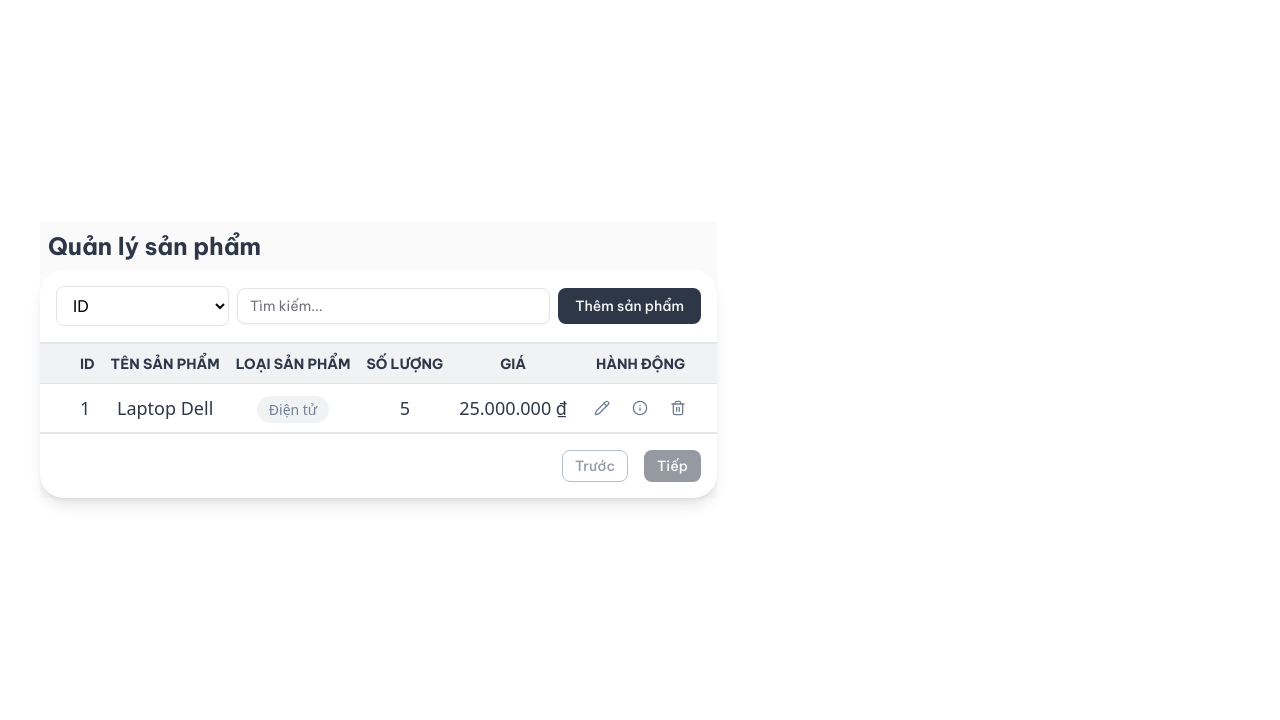
Test case: Product Page Integration › b) - Product form create & edit › TC_PRODUCT_004: Cập nhật sản phẩm thành công qua form chỉnh sửa
Expected: the text "Laptop Dell" is shown, [103, 384, 228, 432]
Click the 2nd button at (602, 408), box [583, 392, 621, 424]
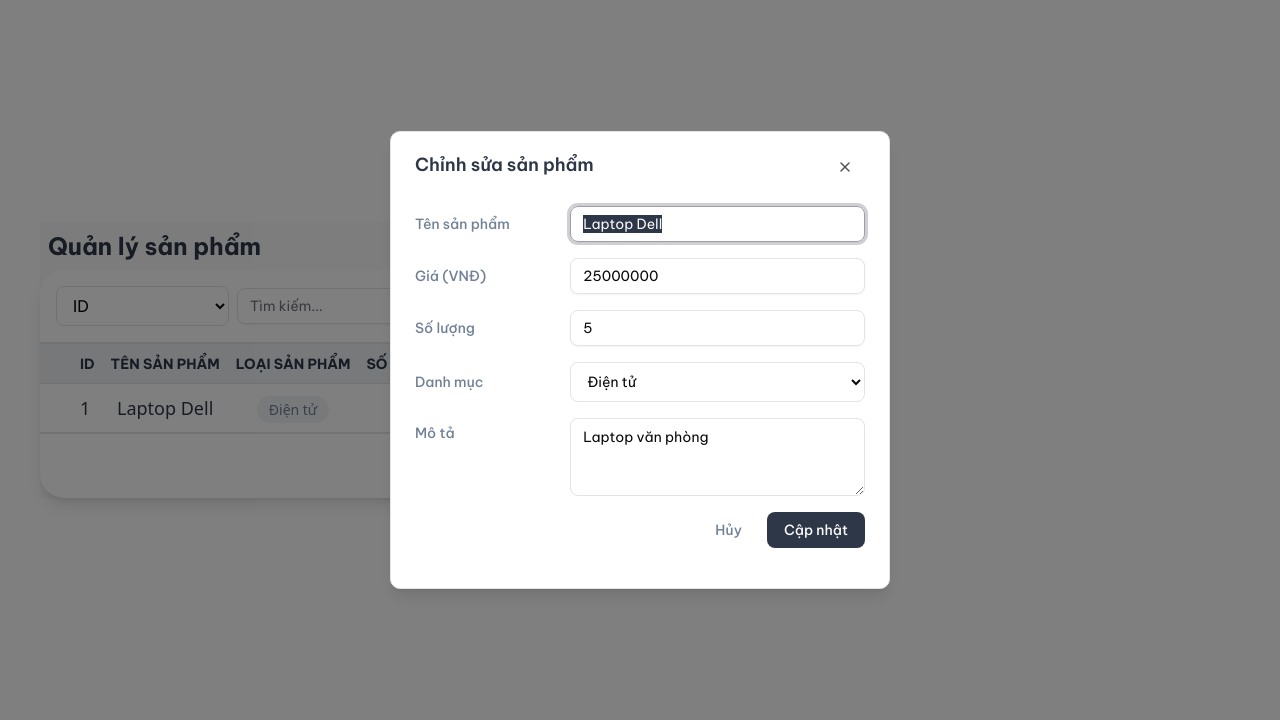
Replace the text in the number field labelled "Giá (VNĐ)" with "22900000" at (718, 276), box [570, 258, 865, 294]
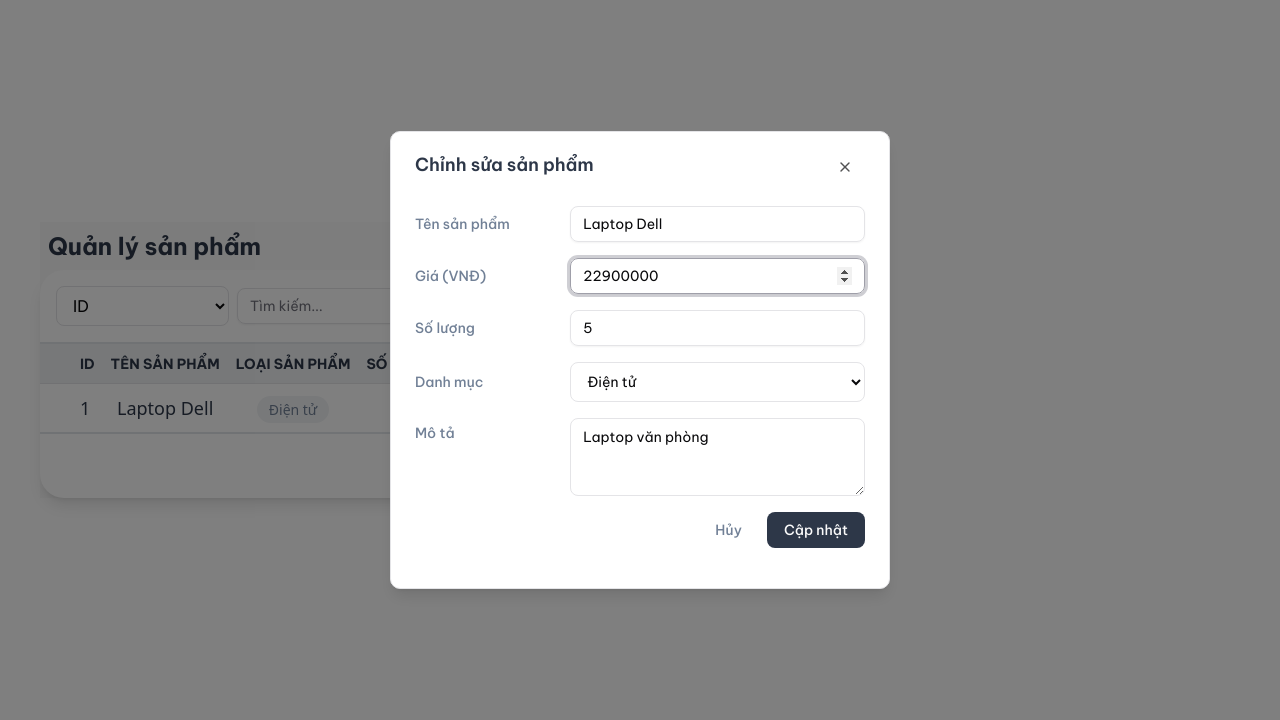
Replace the text in the number field labelled "Số lượng" with "8" at (718, 328), box [570, 310, 865, 346]
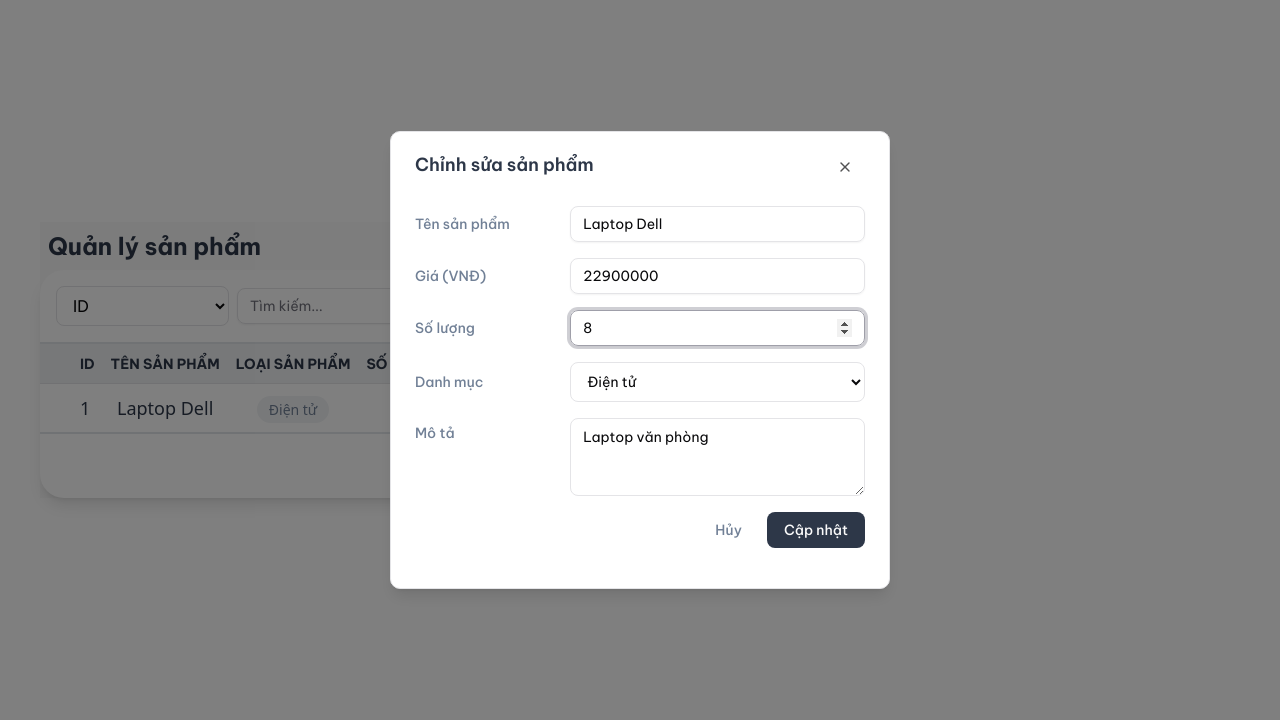
Replace the text in the text box labelled "Mô tả" with "Laptop nâng cấp cấu hình" at (718, 457), box [570, 418, 865, 496]
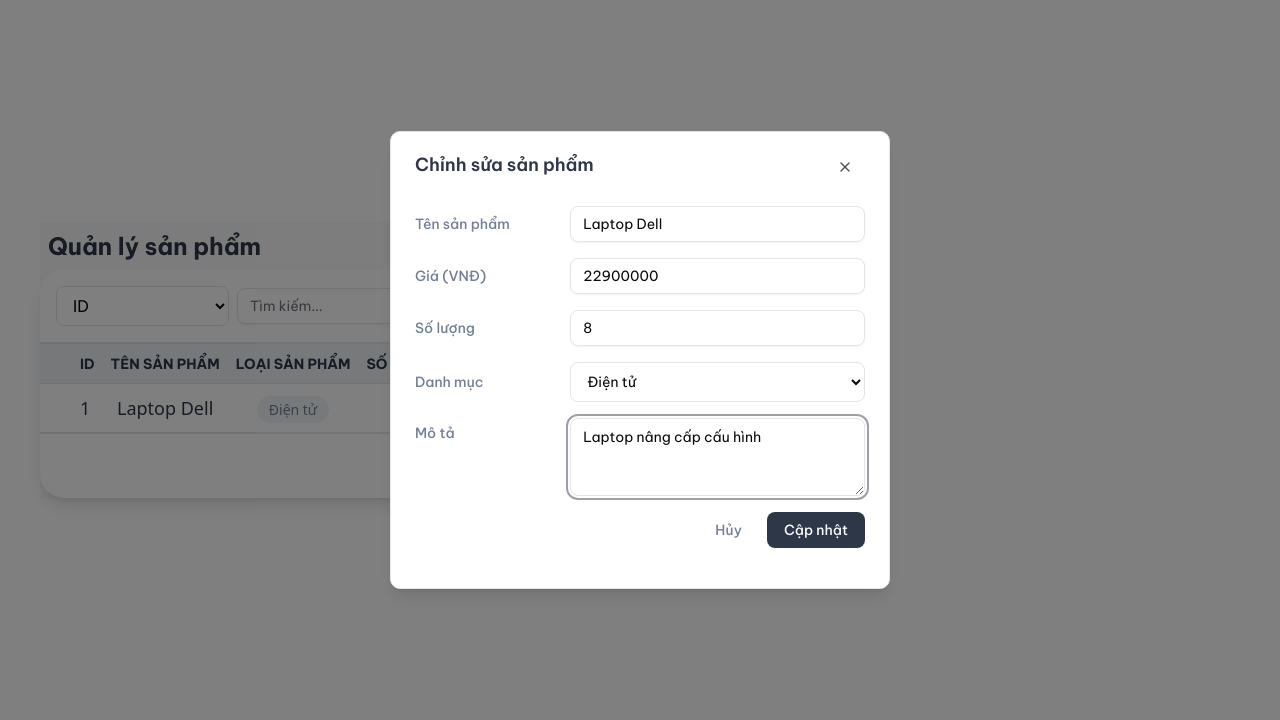
Click the button "Cập nhật" at (816, 530), box [767, 512, 865, 548]
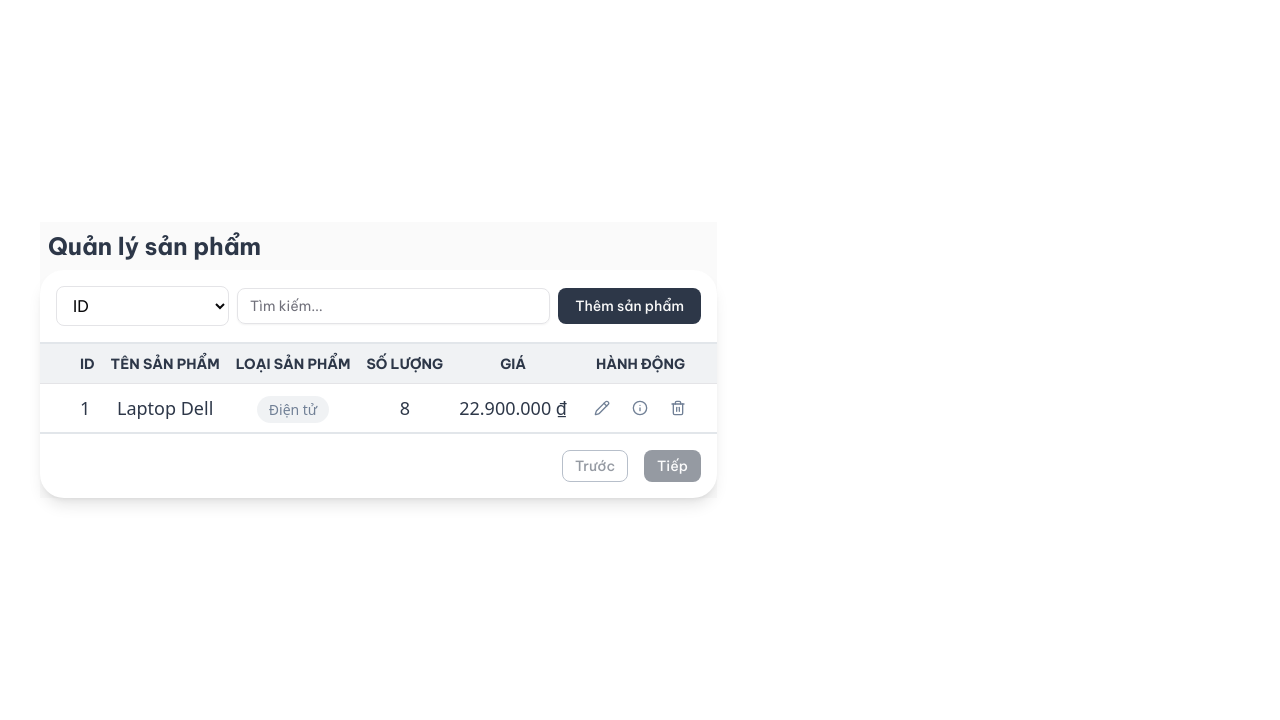
Now the text "22.900.000 ₫" is shown, box [451, 384, 575, 432]
